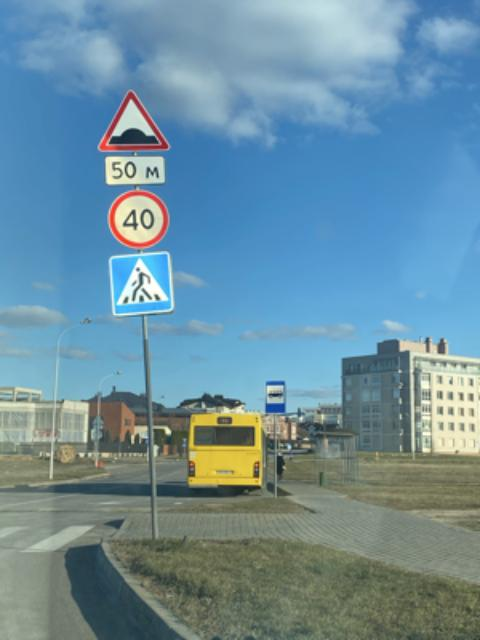crosswalk-sign: (109, 251, 176, 316)
